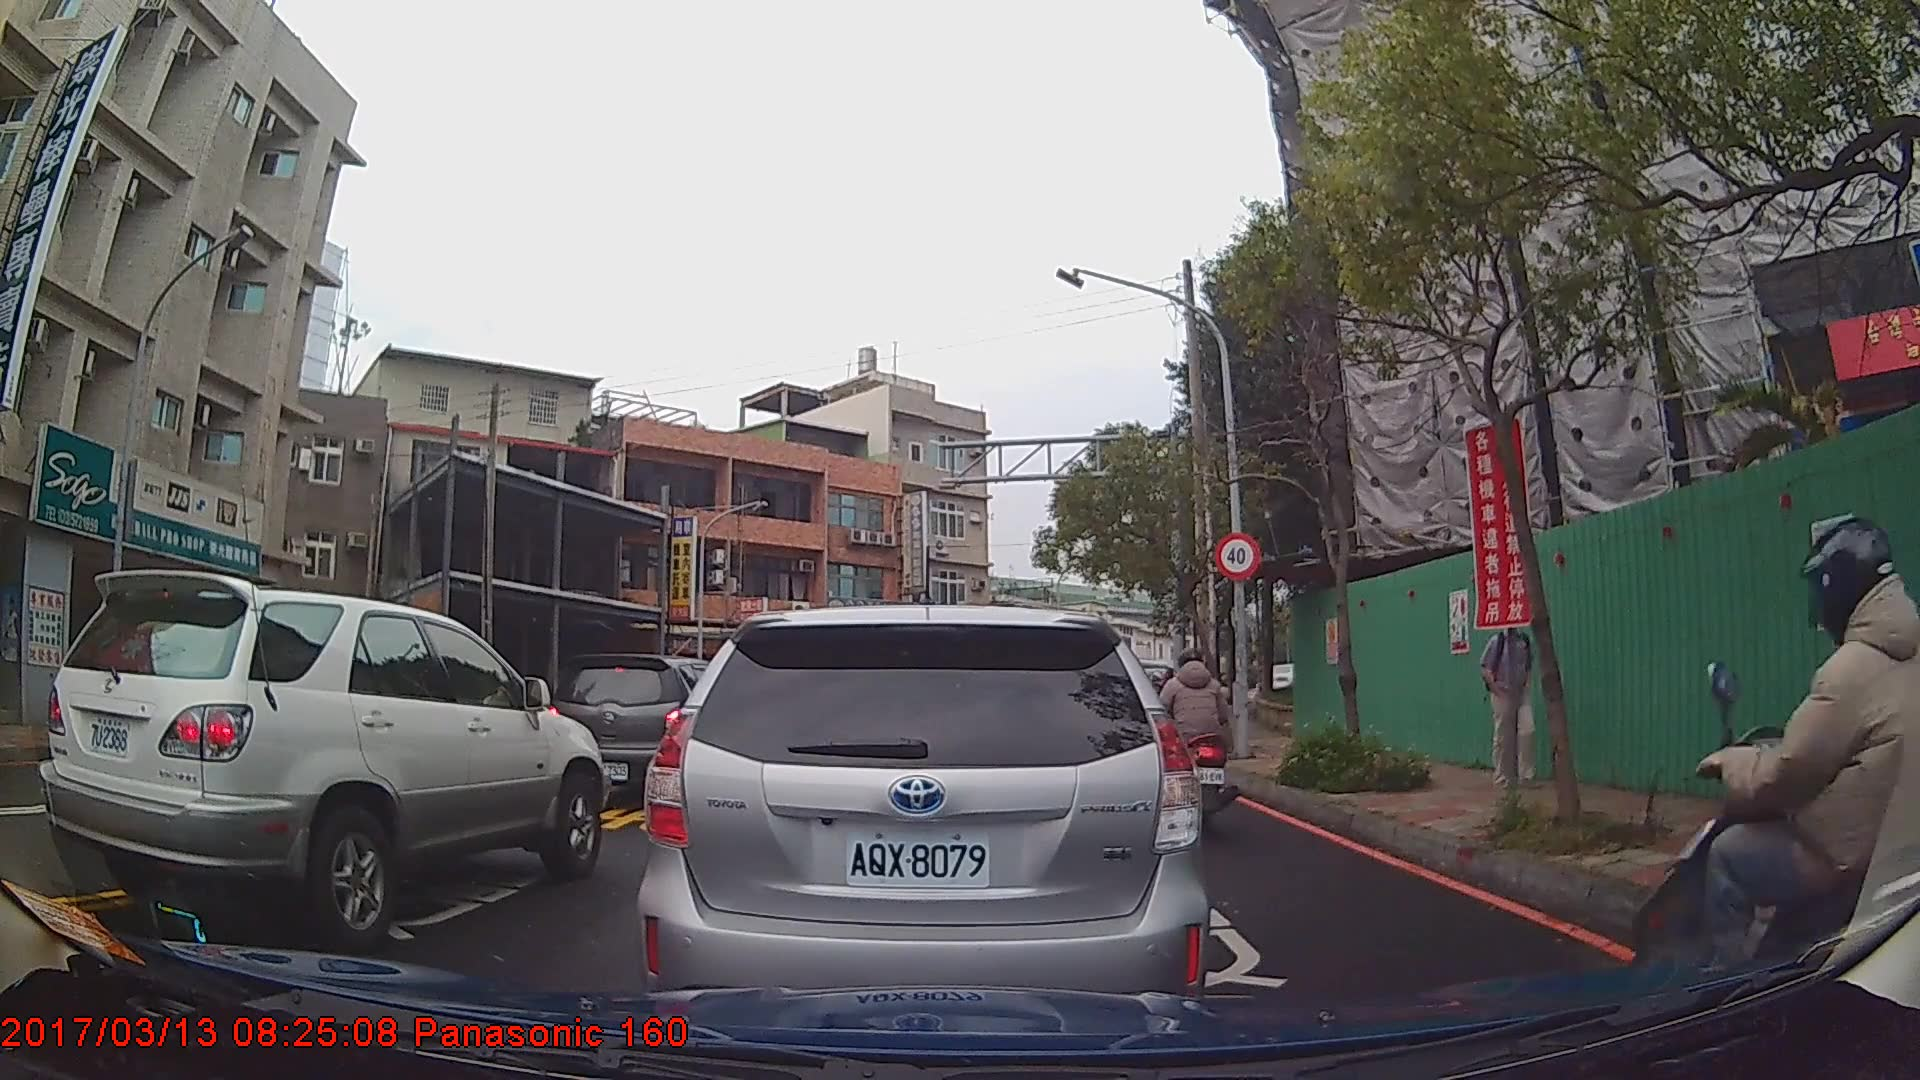pedestrian: (1481, 607, 1538, 792)
rider: (1619, 512, 1920, 1071), (1149, 645, 1236, 824)
vehicle: (631, 600, 1211, 1038), (34, 569, 606, 950), (551, 650, 751, 801)
